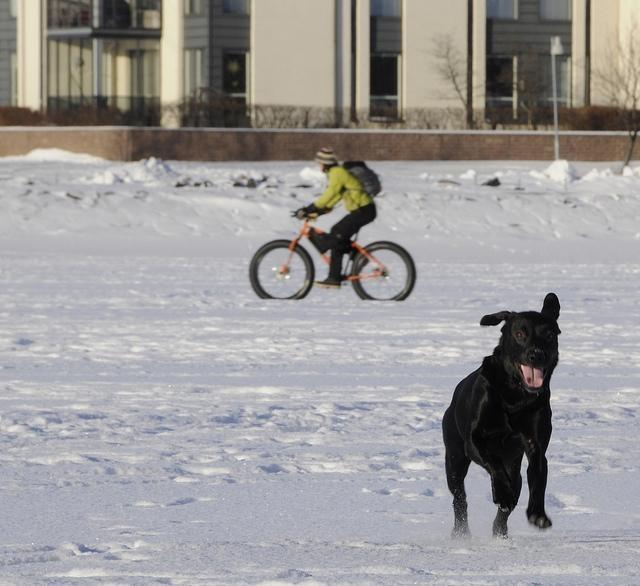bicycle: (250, 219, 417, 300)
